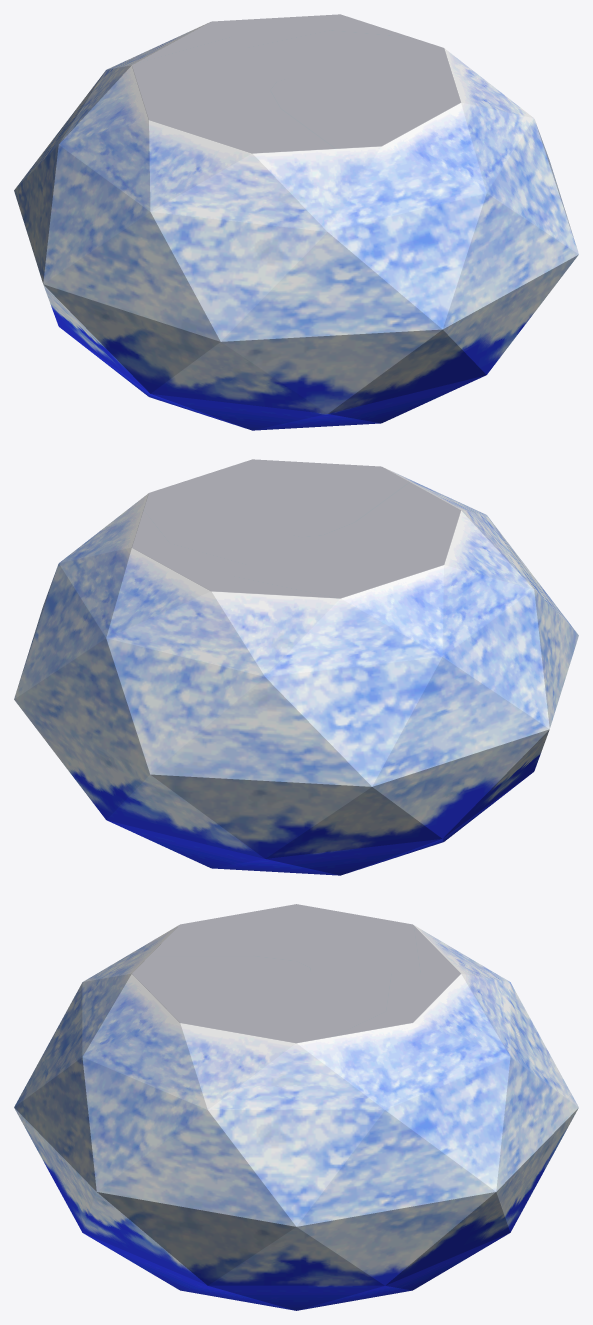
3 renders of one model, top to bottom at view 1: azimuth 30°, elevation 25°; view 2: azimuth 150°, elevation 25°; view 3: azimuth 270°, elevation 25°, orthographic. The views are drawn at different scales.
Parts seen in each view (by area): view 1: world_root; view 2: world_root; view 3: world_root.
Part boxes in pixels (x1,y1,x2,y2): world_root: [14, 14, 578, 430]; world_root: [14, 459, 578, 875]; world_root: [14, 904, 578, 1310].
Size of the model in its own units: 117964 by 61688 by 117964.
